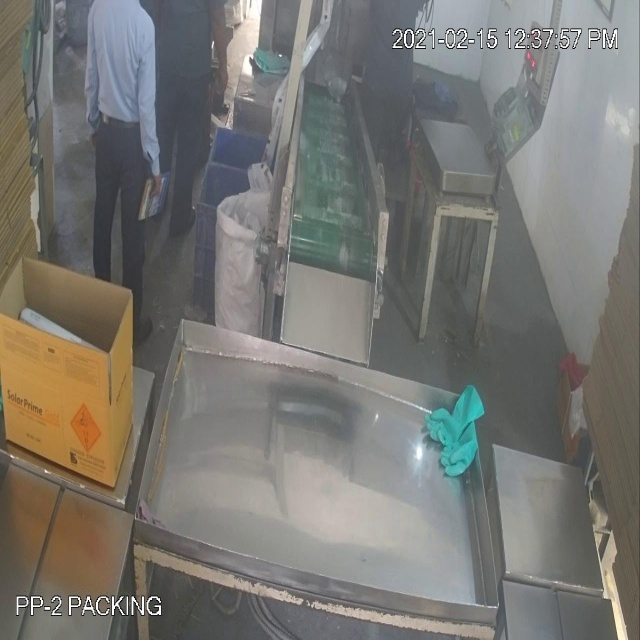Sin_guantes: (134, 5, 168, 209), (208, 1, 231, 116)
